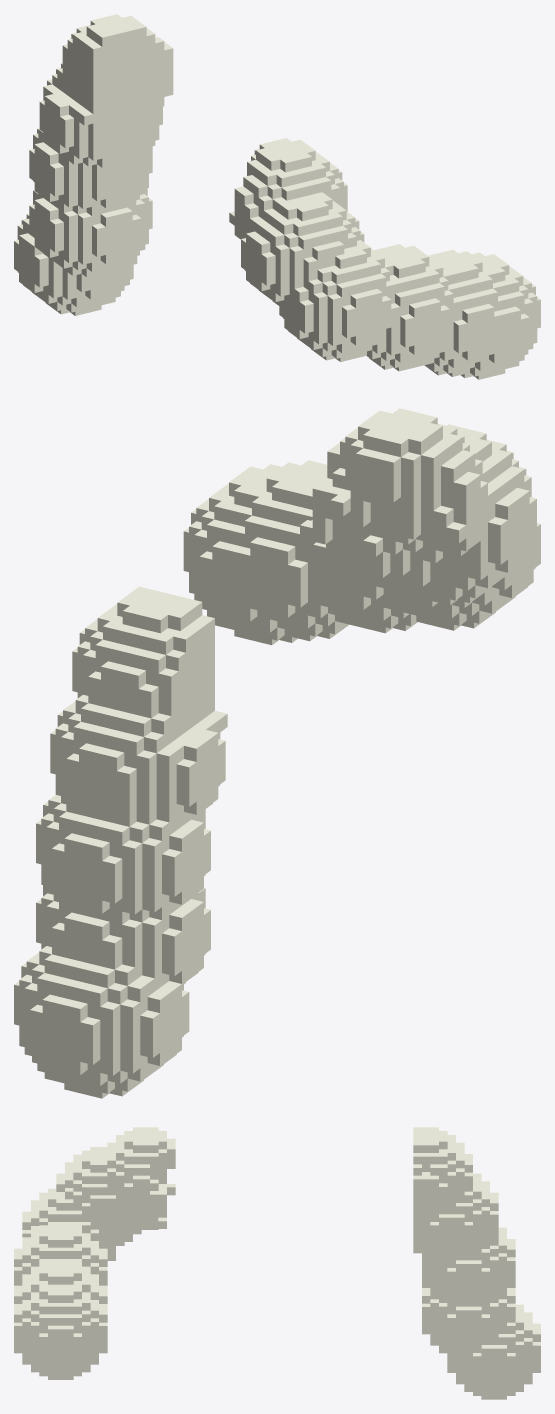
File: Arms.obj
The picture shows the model from 3 angles, top to bottom: view 1: azimuth 30°, elevation 25°; view 2: azimuth 150°, elevation 25°; view 3: azimuth 270°, elevation 25°; orthographic projection. The views are drawn at different scales.
Bounding box in the file's own units: 28 × 33 × 62.
